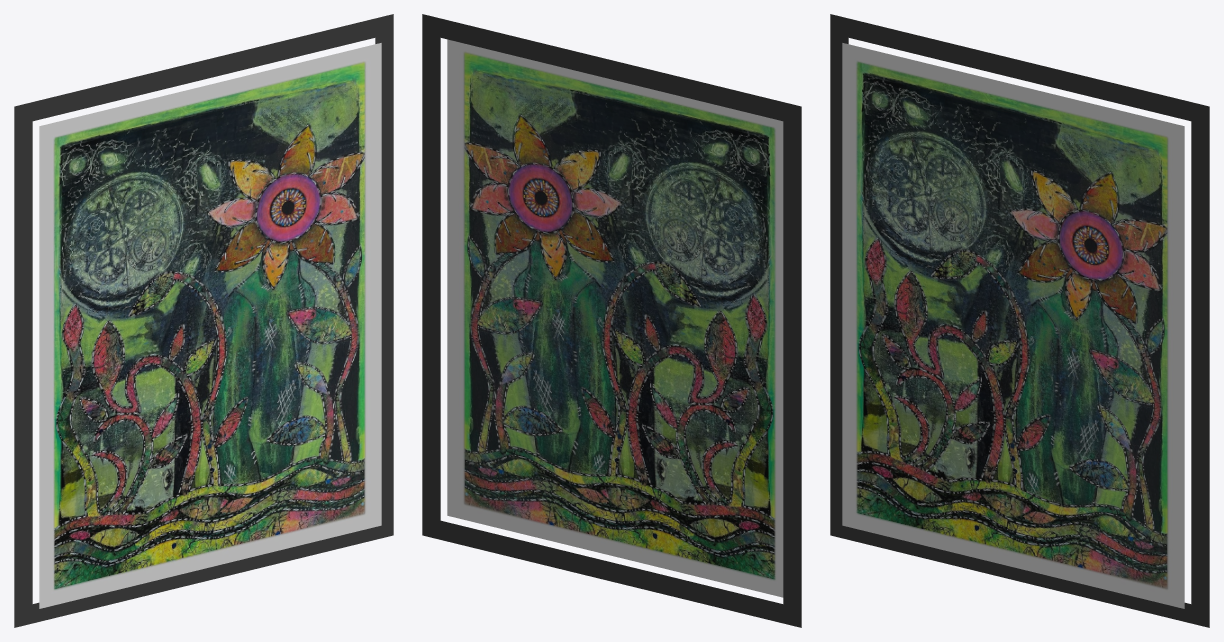
3 views of the same model, side by side, from view 1: azimuth 30°, elevation 25°; view 2: azimuth 150°, elevation 25°; view 3: azimuth 330°, elevation 25° (orthographic).
Visible parts, largest first — view 1: painting; view 2: painting; view 3: painting.
Part boxes in pixels (x1,y1,x2,y2): painting: [14, 14, 393, 627]; painting: [422, 14, 801, 627]; painting: [830, 14, 1209, 627].
Size of the model in its own units: 1.23 by 1.62 by 0.0375.
2 materials, 1 textured.
